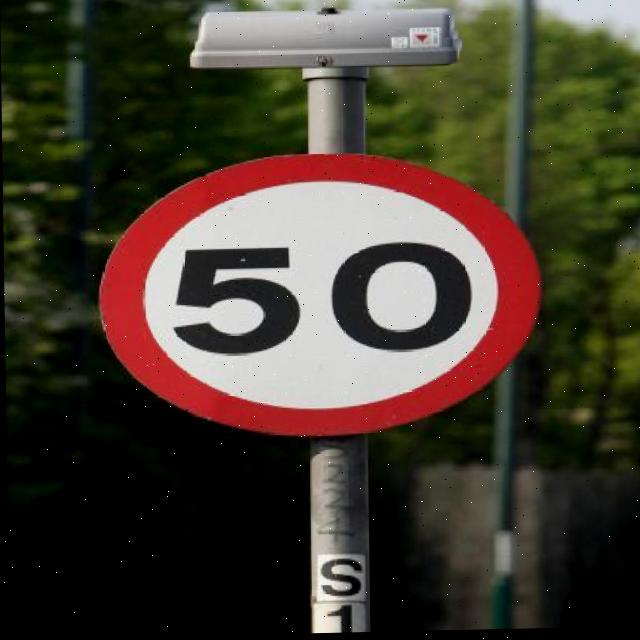Speed limit 50: (94, 145, 546, 446)
